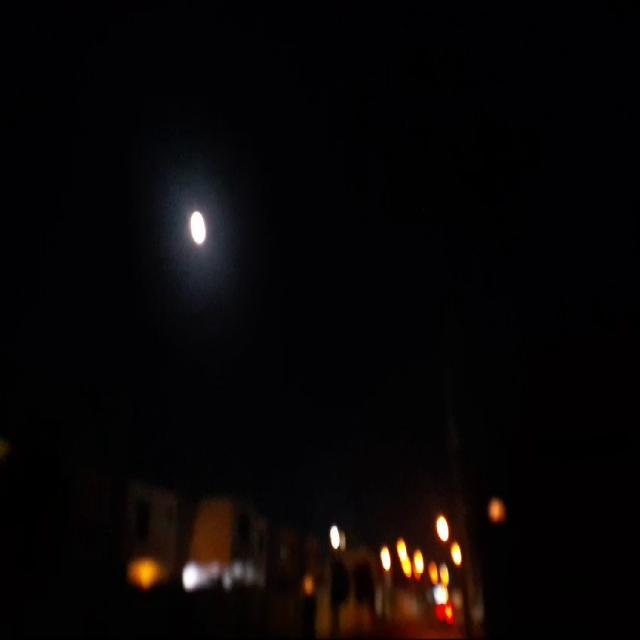moon: (187, 212, 207, 250)
